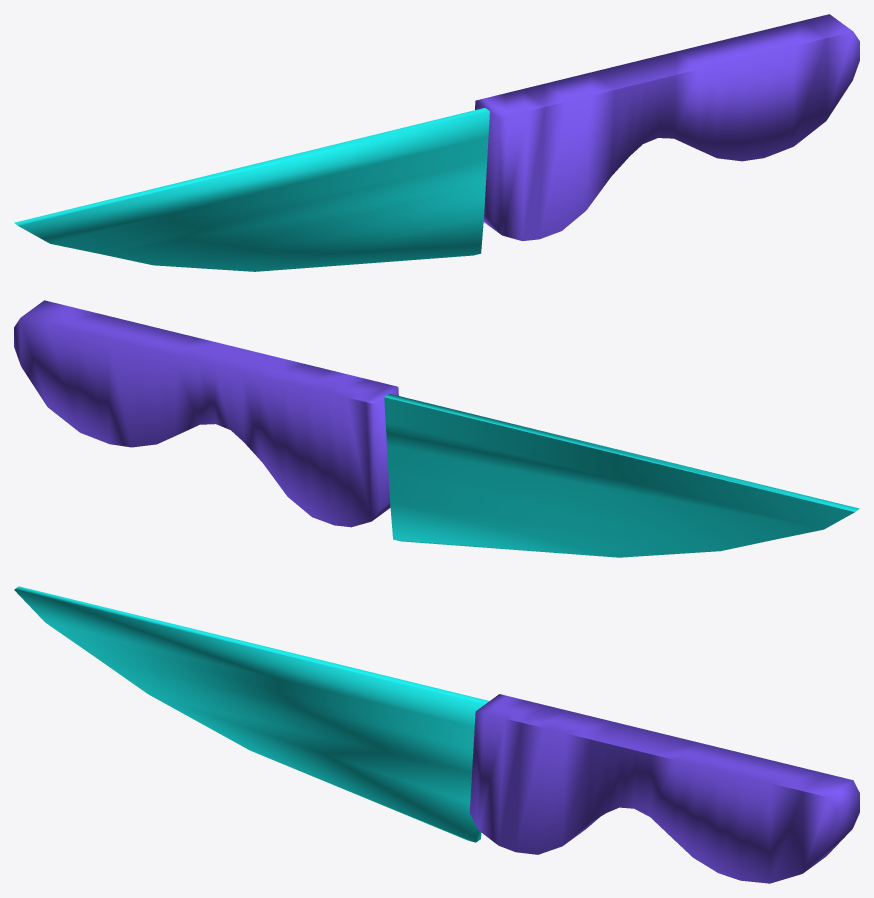
File: knife_lvl_1.fbx
3 views of the same model, one above another, from view 1: azimuth 30°, elevation 25°; view 2: azimuth 150°, elevation 25°; view 3: azimuth 330°, elevation 25° (orthographic).
Parts seen in each view (by area): view 1: Knife; view 2: Knife; view 3: Knife.
Boxes of the visible parts, <box> form: Knife: <box>14,14,859,271</box>; Knife: <box>14,300,859,557</box>; Knife: <box>14,586,859,883</box>.
Bounding box in the file's own units: 1.97 × 0.3178 × 0.0981.
